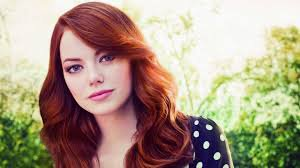noMask: (46, 3, 145, 123)
